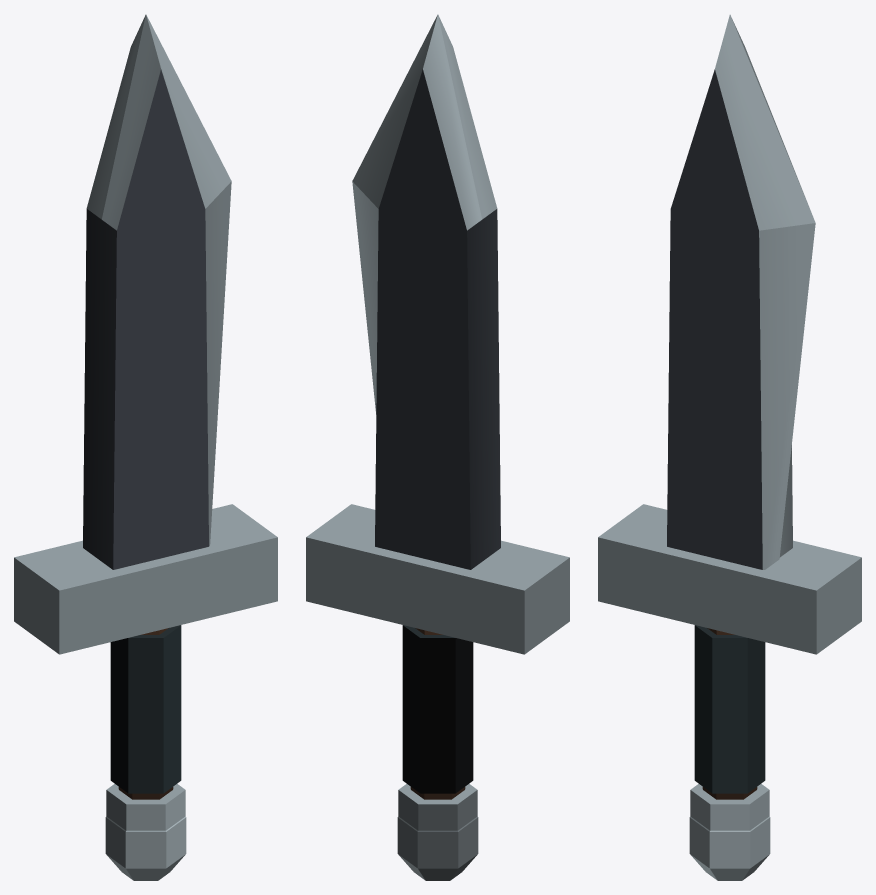
File: rogue_off_1.gltf
3 views of the same model, side by side, from view 1: azimuth 30°, elevation 25°; view 2: azimuth 150°, elevation 25°; view 3: azimuth 330°, elevation 25° (orthographic).
Visible parts, largest first — view 1: rogue_off_1; view 2: rogue_off_1; view 3: rogue_off_1.
Boxes of the visible parts, bbox=[...] form: rogue_off_1: bbox=[14, 14, 277, 880]; rogue_off_1: bbox=[306, 14, 569, 880]; rogue_off_1: bbox=[598, 14, 861, 880].
Size of the model in its own units: 0.25 by 0.938 by 0.09.
1 material, 1 textured.
